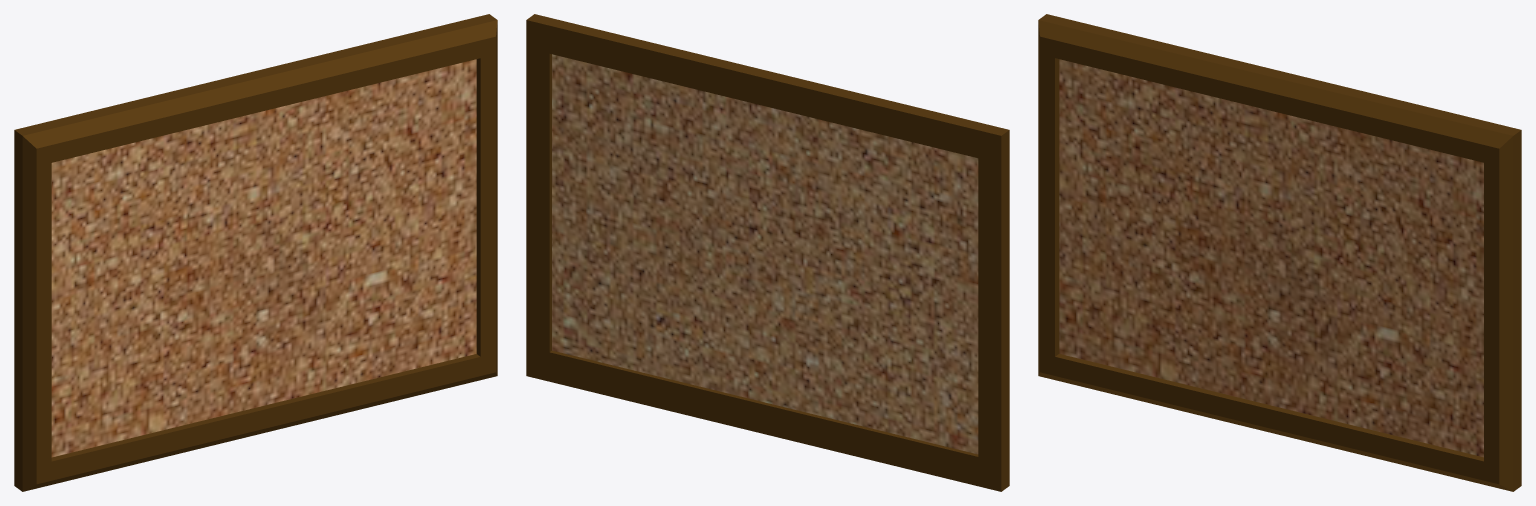
The model's file is Cork Board.fbx.
3 views of the same model, side by side, from view 1: azimuth 30°, elevation 25°; view 2: azimuth 150°, elevation 25°; view 3: azimuth 330°, elevation 25° (orthographic).
Parts seen in each view (by area): view 1: polySurface2; view 2: polySurface2; view 3: polySurface2.
Boxes of the visible parts, <box> form: polySurface2: <box>14,14,497,491</box>; polySurface2: <box>526,14,1009,491</box>; polySurface2: <box>1038,14,1521,491</box>.
Size of the model in its own units: 26.57 by 19.04 by 1.48.
Materials: 2 (1 with a texture image).
